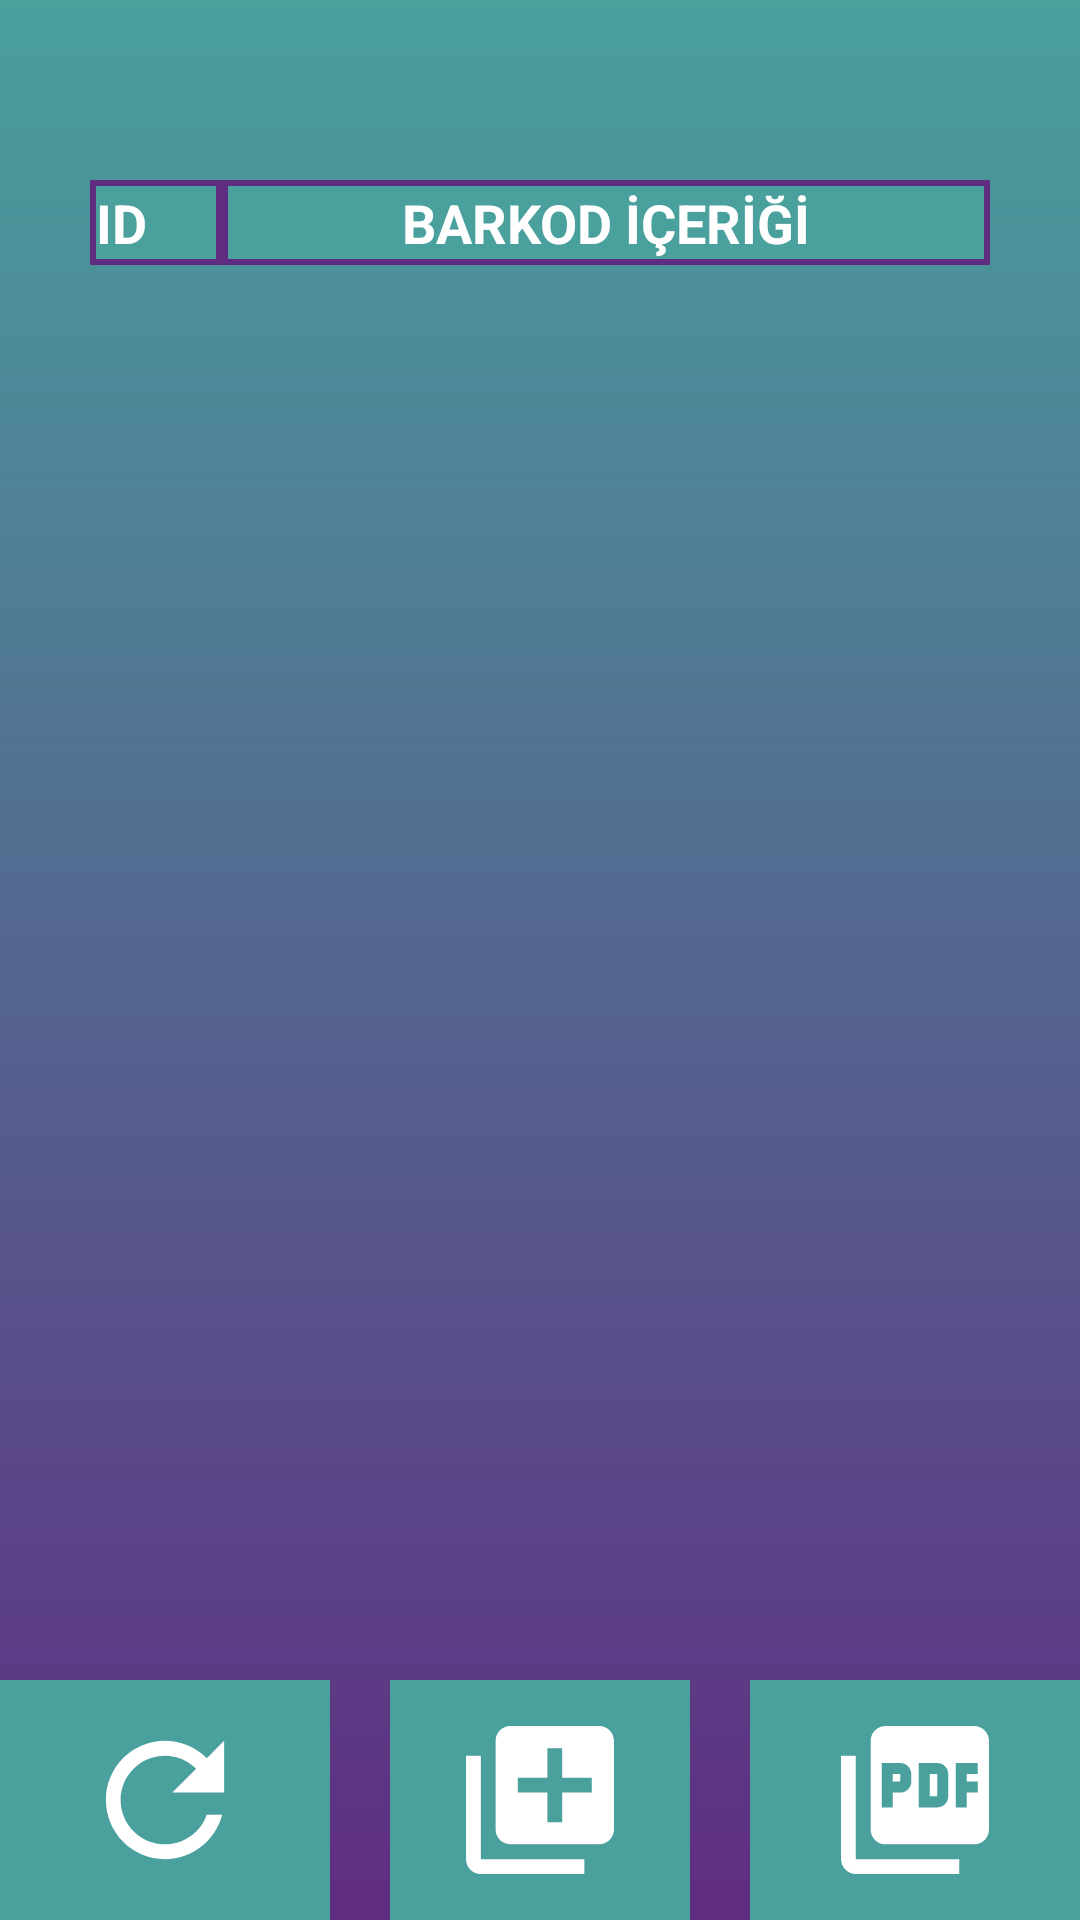

Where to tap for icons on this 1080w x 1920h app screen, as point (x, y):
additem: point (540, 1800)
refresh: point (165, 1800)
